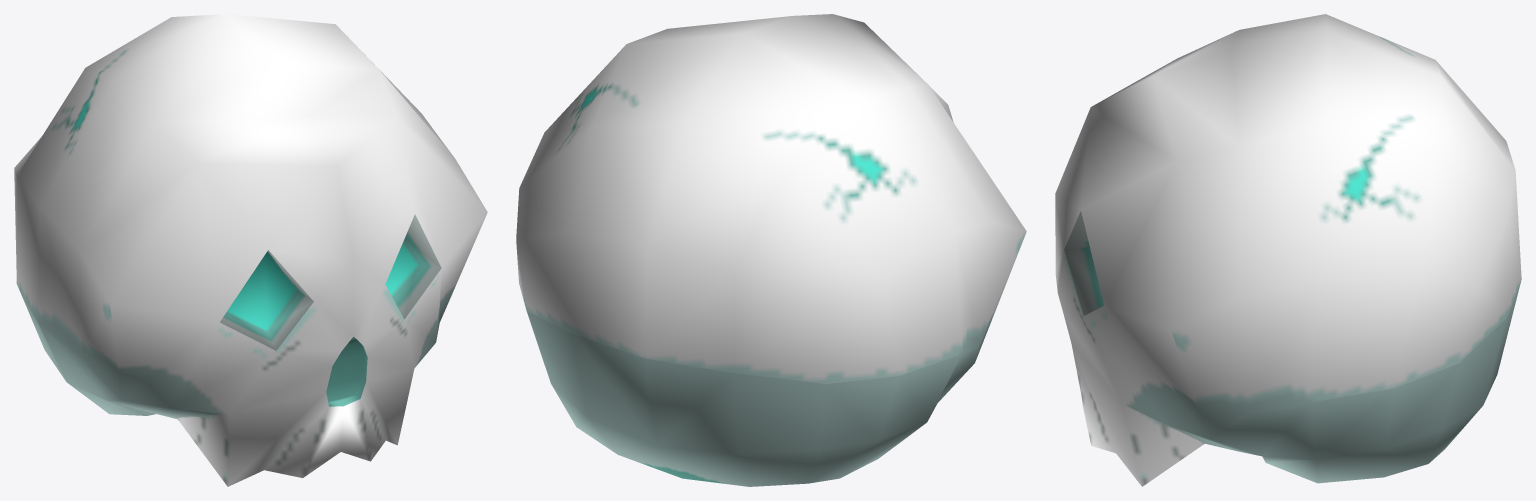
Rendered from EnSkullHead.fbx.
3 views of the same model, side by side, from view 1: azimuth 30°, elevation 25°; view 2: azimuth 150°, elevation 25°; view 3: azimuth 270°, elevation 25° (orthographic). The views are drawn at different scales.
Visible parts, largest first — view 1: Skull; view 2: Skull; view 3: Skull.
Boxes of the visible parts, <box> form: Skull: <box>14,14,487,486</box>; Skull: <box>516,14,1026,486</box>; Skull: <box>1055,14,1521,486</box>.
Size of the model in its own units: 3.8 by 3.63 by 3.73.
